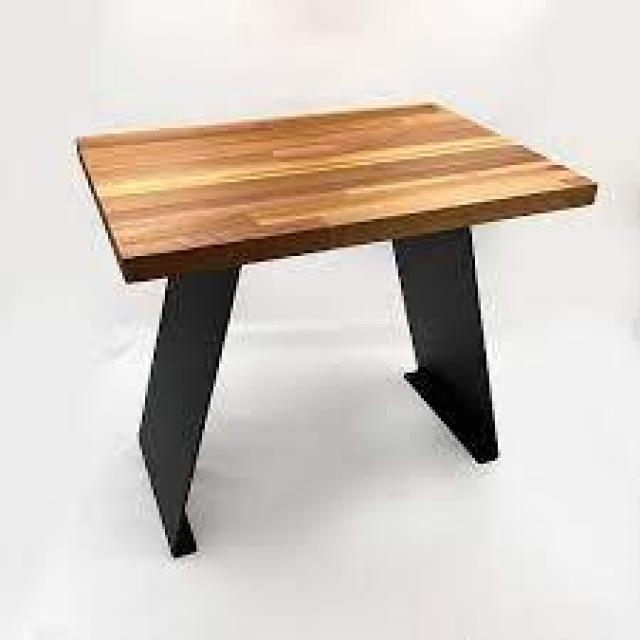chair: (51, 71, 600, 580)
